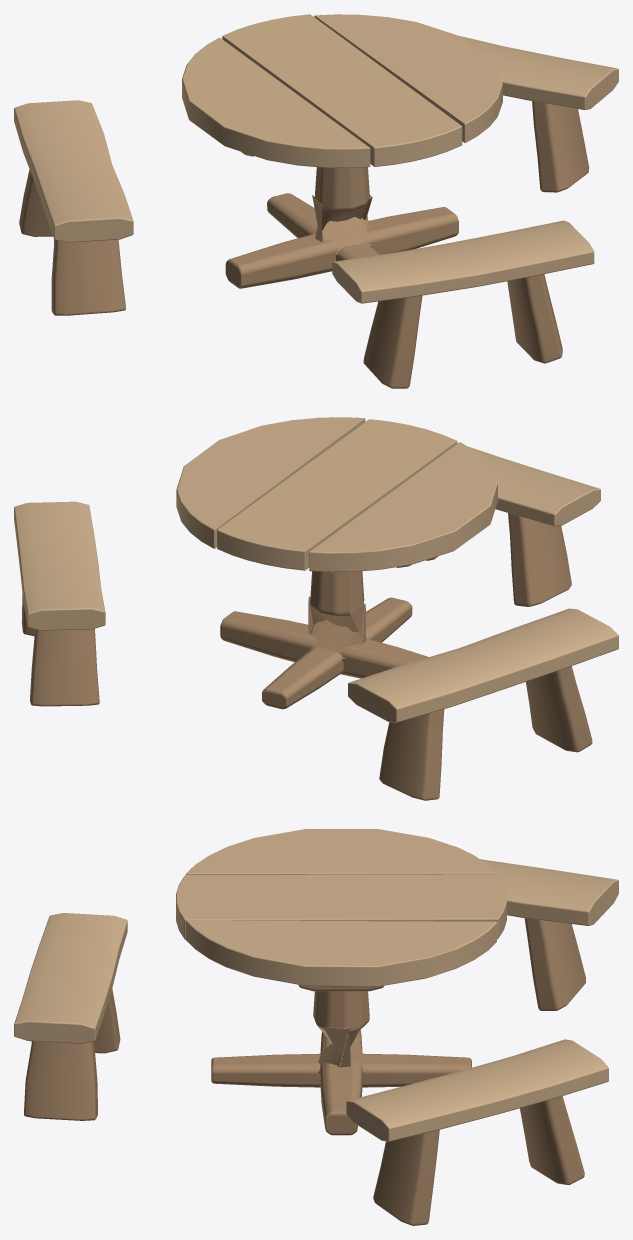
The model's file is pt_table_round_1.glb.
3 renders of one model, top to bottom at view 1: azimuth 30°, elevation 25°; view 2: azimuth 150°, elevation 25°; view 3: azimuth 270°, elevation 25°, orthographic. The views are drawn at different scales.
Parts seen in each view (by area): view 1: pt_table_round_1_plank, pt_table_round_1_timber; view 2: pt_table_round_1_plank, pt_table_round_1_timber; view 3: pt_table_round_1_plank, pt_table_round_1_timber.
Part boxes in pixels (box(x1,y1,x2,y2)): pt_table_round_1_plank: box(14, 14, 618, 303); pt_table_round_1_timber: box(19, 101, 589, 388); pt_table_round_1_plank: box(14, 417, 618, 722); pt_table_round_1_timber: box(21, 513, 592, 800); pt_table_round_1_plank: box(14, 829, 618, 1141); pt_table_round_1_timber: box(24, 918, 585, 1225).
Size of the model in its own units: 2.58 by 0.7848 by 2.24.
